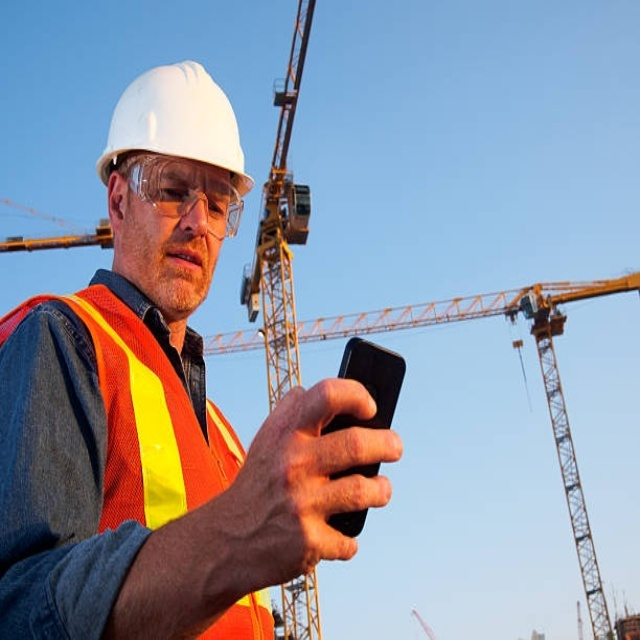Gafas: (123, 156, 245, 239)
Sin_guantes: (218, 375, 401, 588)
Sin_mascara: (158, 241, 214, 301)
